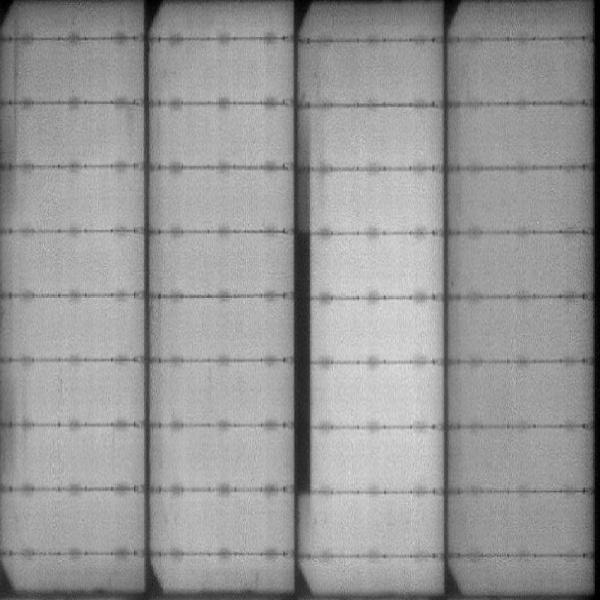black_border: (293, 110, 316, 497)
